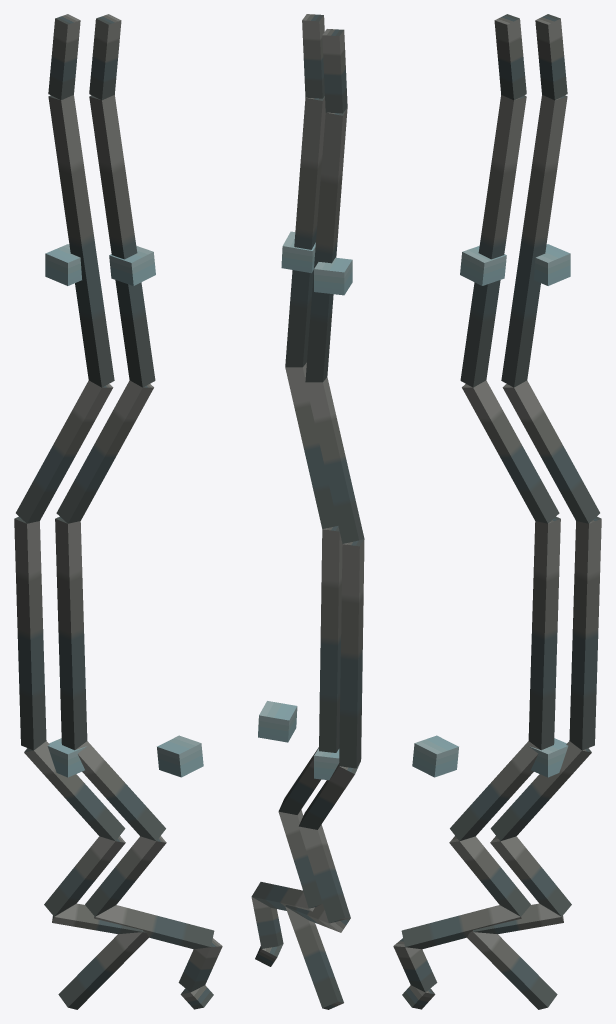
The model's file is pz_native_electrical_185.obj.
The picture shows the model from 3 angles, left to right: view 1: azimuth 90°, elevation 25°; view 2: azimuth 210°, elevation 25°; view 3: azimuth 270°, elevation 25°; orthographic projection.
Visible parts, largest first — view 1: conduit, conduit_end; view 2: conduit, conduit_end; view 3: conduit, conduit_end.
Part boxes in pixels (x1,y1,x2,y2): conduit: [14, 18, 222, 1009]; conduit_end: [14, 14, 222, 994]; conduit: [251, 15, 364, 1008]; conduit_end: [259, 14, 363, 1009]; conduit: [393, 18, 601, 1009]; conduit_end: [393, 14, 601, 994].
Bounding box in the file's own units: 0.042 × 1.02 × 0.1953.
1 material, 1 textured.
